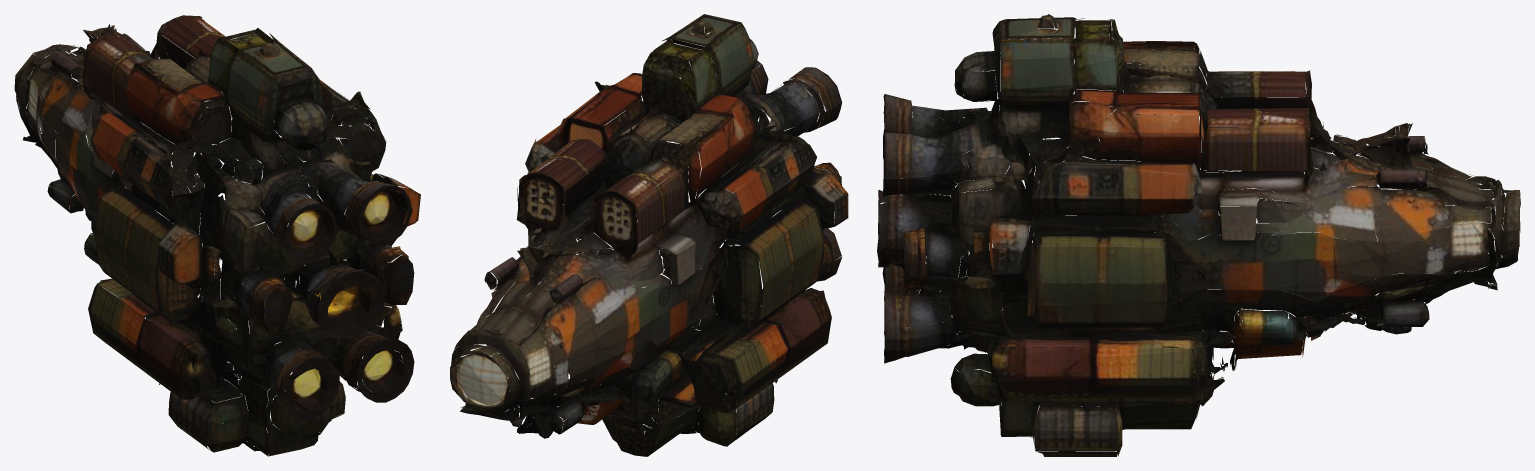
The model's file is rustroad-carrier.glb.
The picture shows the model from 3 angles, left to right: view 1: azimuth 30°, elevation 25°; view 2: azimuth 150°, elevation 25°; view 3: azimuth 270°, elevation 25°; orthographic projection. The views are drawn at different scales.
Parts seen in each view (by area): view 1: world; view 2: world; view 3: world.
Part boxes in pixels (x1,y1,x2,y2): world: (14, 15, 420, 456); world: (450, 14, 848, 456); world: (877, 14, 1520, 456).
Size of the model in its own units: 0.4601 by 0.7226 by 0.9904.
1 material, 1 textured.
